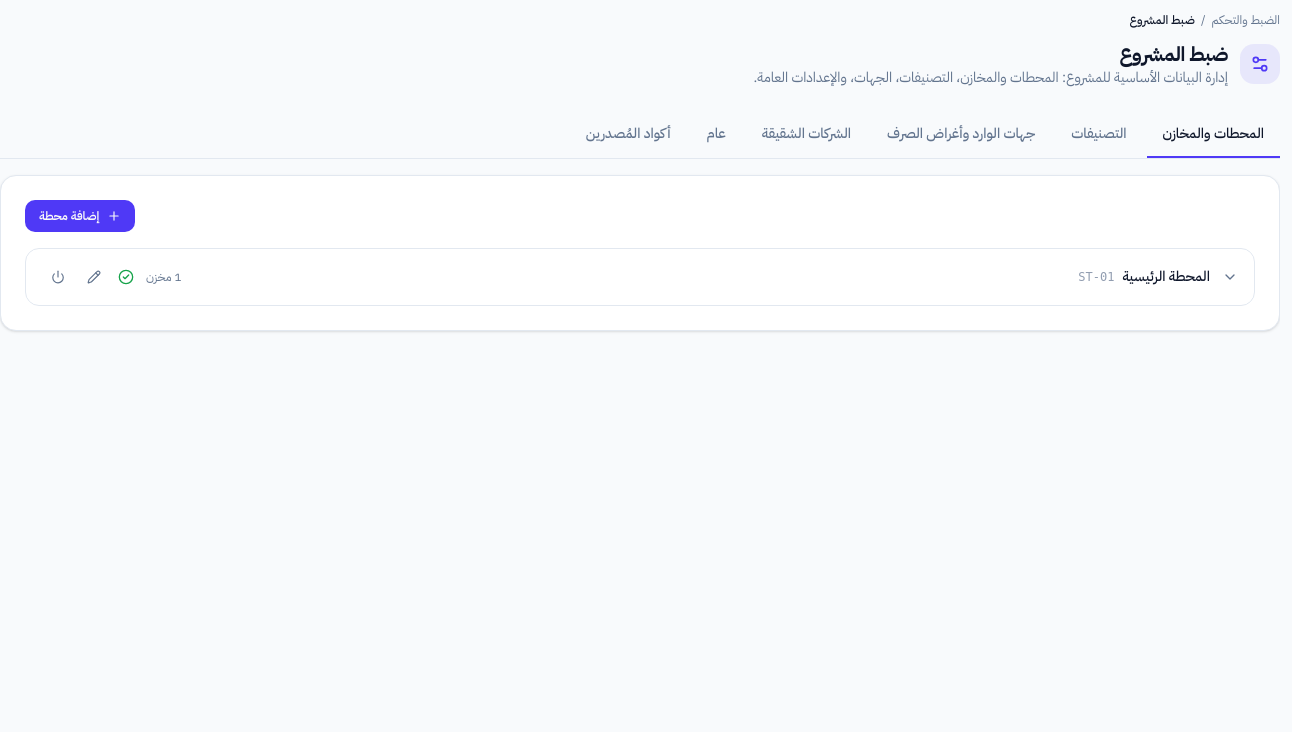
Test case: ProjectSettings › switches tab panels on click
Expected: the text "المحطة الرئيسية" is shown, x1=1122 y1=267 x2=1210 y2=287
Click the tab "التصنيفات": [1099, 135] box x1=1055 y1=112 x2=1142 y2=158
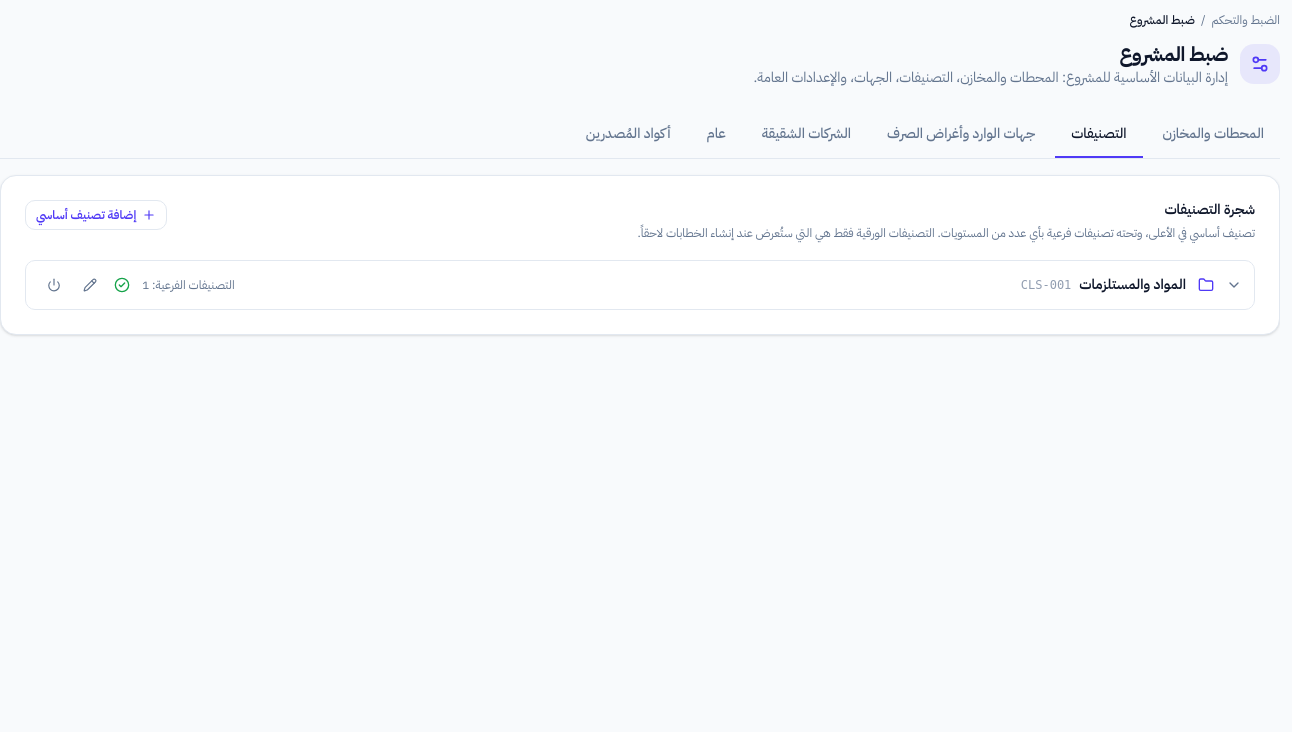
Expected: the heading "شجرة التصنيفات" is shown, x1=1164 y1=199 x2=1255 y2=220
Expected: the text "المواد والمستلزمات" is shown, x1=1079 y1=274 x2=1186 y2=294
Expected: the text "CLS-001" is shown, x1=1021 y1=276 x2=1071 y2=292
Click the tab "جهات الوارد وأغراض الصرف": [961, 135] box x1=871 y1=112 x2=1051 y2=158
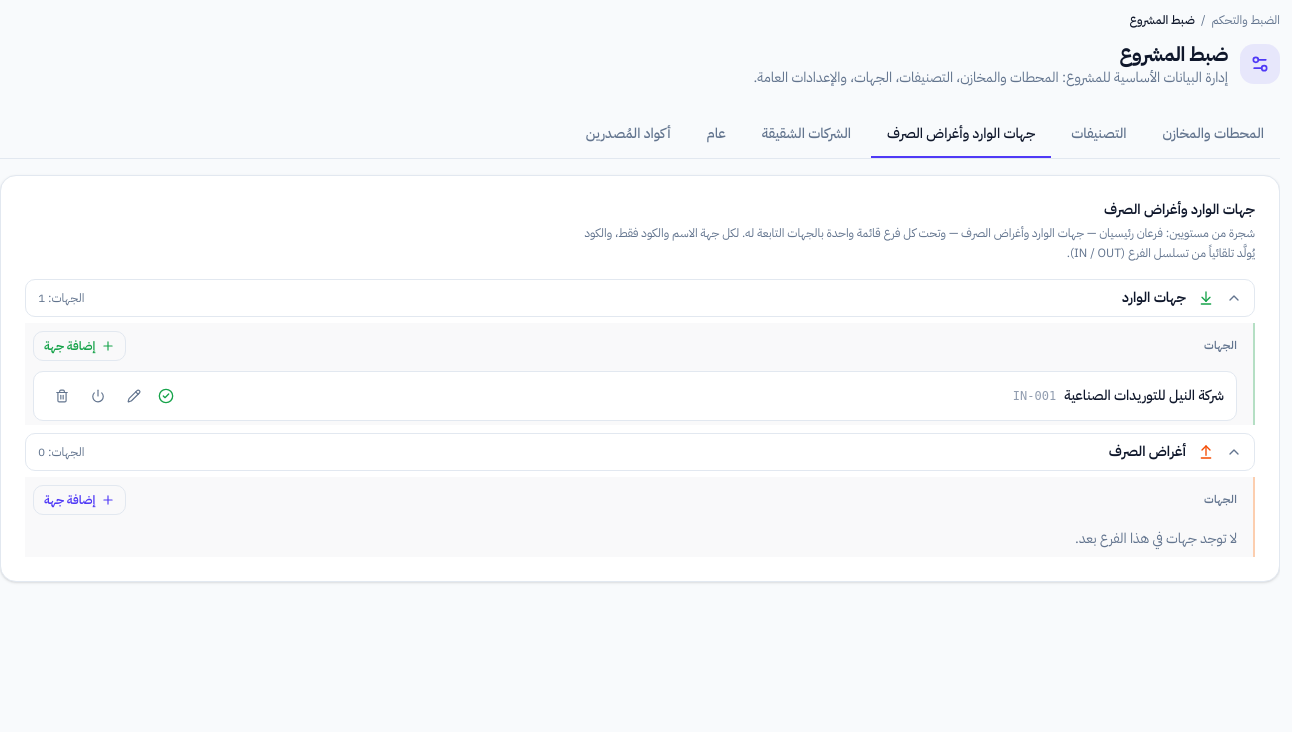
Expected: the text "شركة النيل للتوريدات الصناعية" is shown, x1=1064 y1=386 x2=1224 y2=406
Expected: the text "IN-001" is shown, x1=1013 y1=388 x2=1056 y2=404
Expected: the button with aria-label "إضافة جهة داخل «جهات الوارد»" is shown, x1=33 y1=331 x2=126 y2=361
// The sister-companies tab opens the tree directly, with no sub-tabs.
Click the tab "الشركات الشقيقة": [806, 135] box x1=746 y1=112 x2=867 y2=158
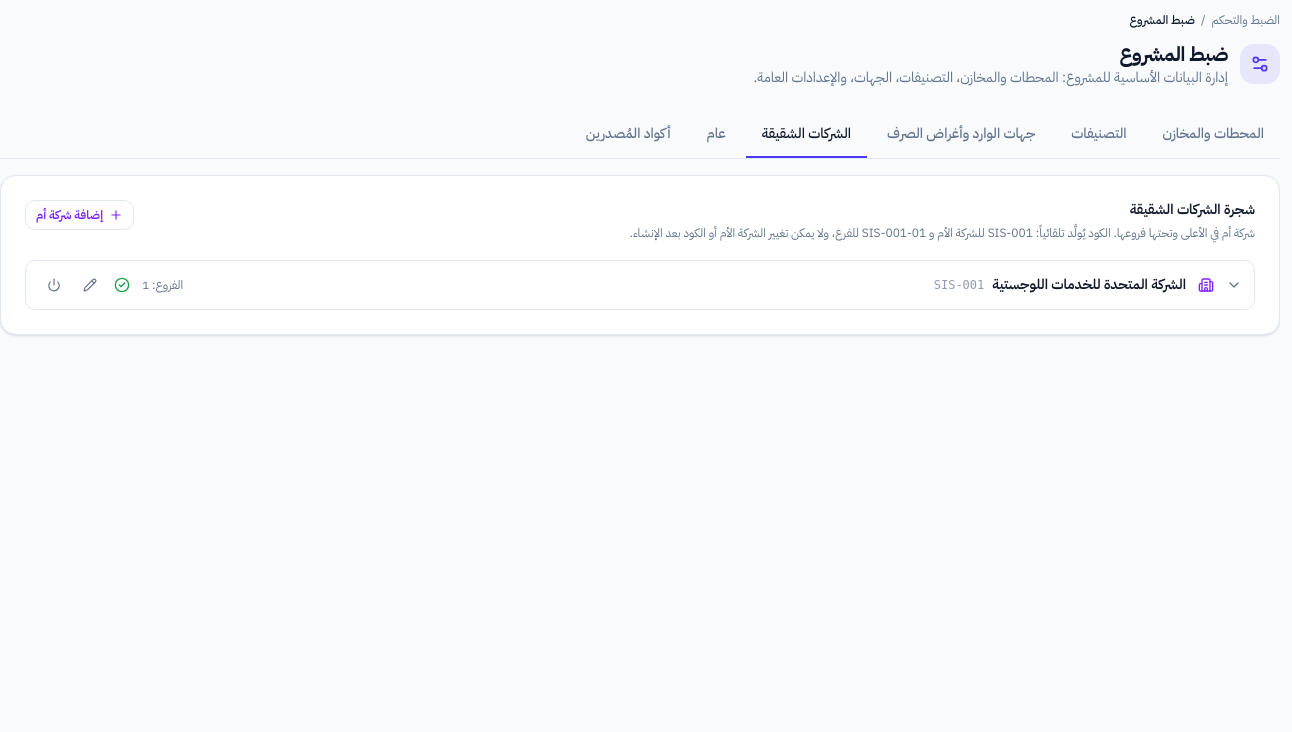
Expected: the heading "شجرة الشركات الشقيقة" is shown, x1=1130 y1=199 x2=1255 y2=220
Expected: the text "SIS-001" is shown, x1=934 y1=276 x2=984 y2=292
Expected: the text "IN-001" is gone
Click the tab "عام": [716, 135] box x1=690 y1=112 x2=742 y2=158
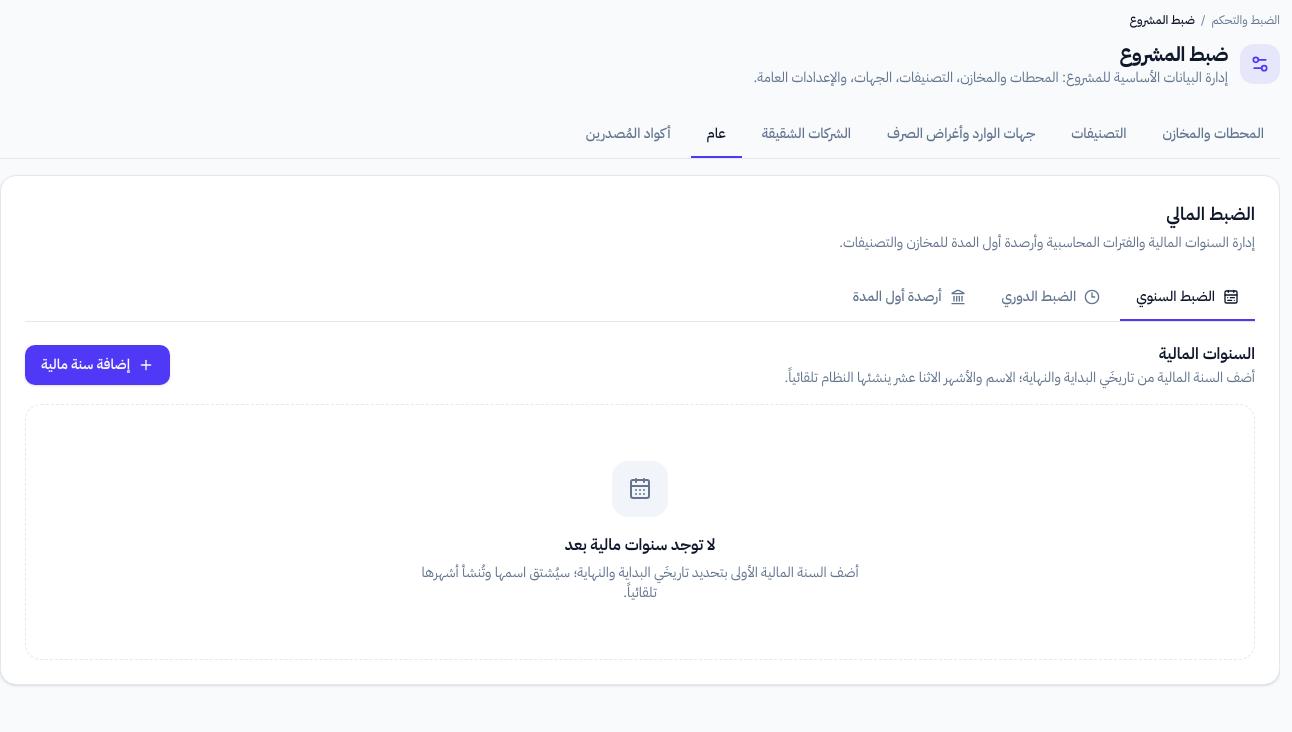
Expected: the element named "الضبط المالي" is shown, x1=25 y1=275 x2=1255 y2=322
Expected: the tab "الضبط السنوي" is shown, x1=1120 y1=275 x2=1255 y2=321
Expected: the tab "الضبط الدوري" is shown, x1=986 y1=275 x2=1116 y2=321
// The issuer register is a flat table with no sub-tabs of its own.
Click the tab "أكواد المُصدرين": [628, 135] box x1=570 y1=112 x2=686 y2=158
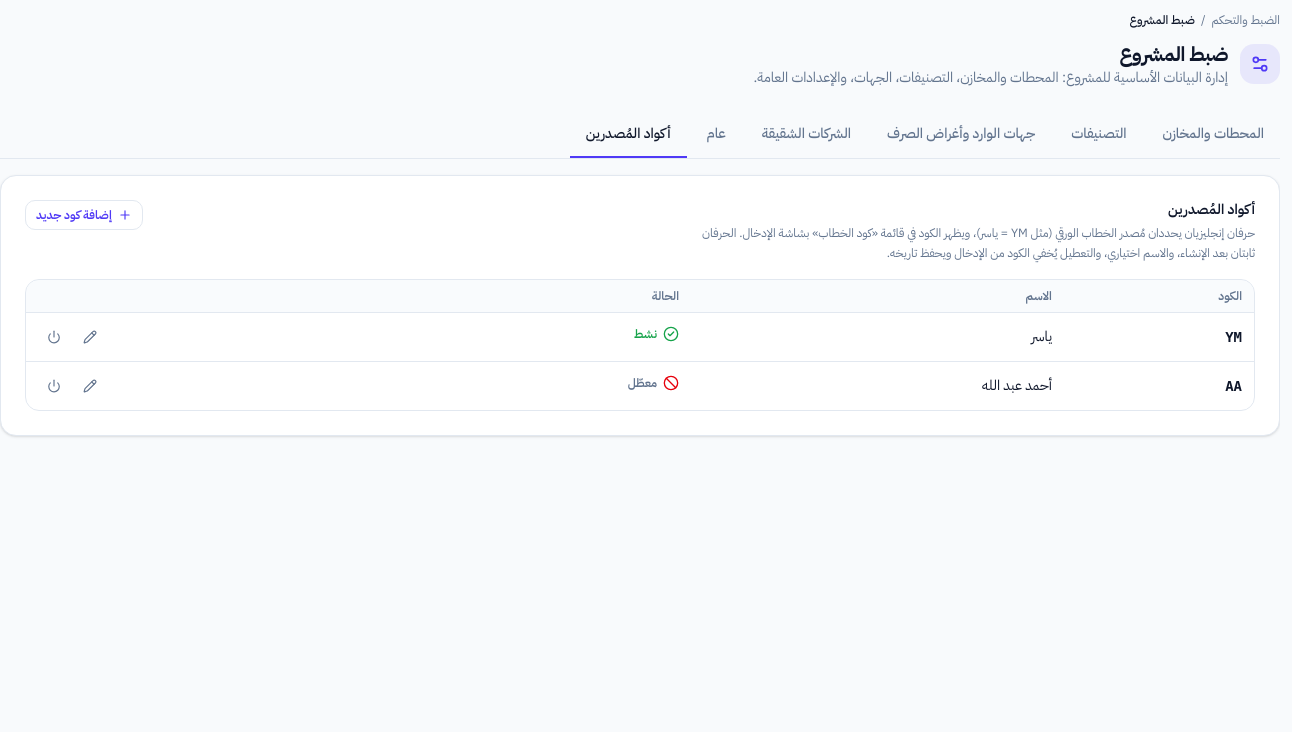
Expected: the heading "أكواد المُصدرين" is shown, x1=1168 y1=199 x2=1255 y2=220
Expected: the column heading "YM" is shown, x1=1064 y1=312 x2=1254 y2=362
Expected: the button "إضافة كود جديد" is shown, x1=25 y1=200 x2=143 y2=230
Click the tab "المحطات والمخازن": [1213, 135] box x1=1146 y1=112 x2=1280 y2=158
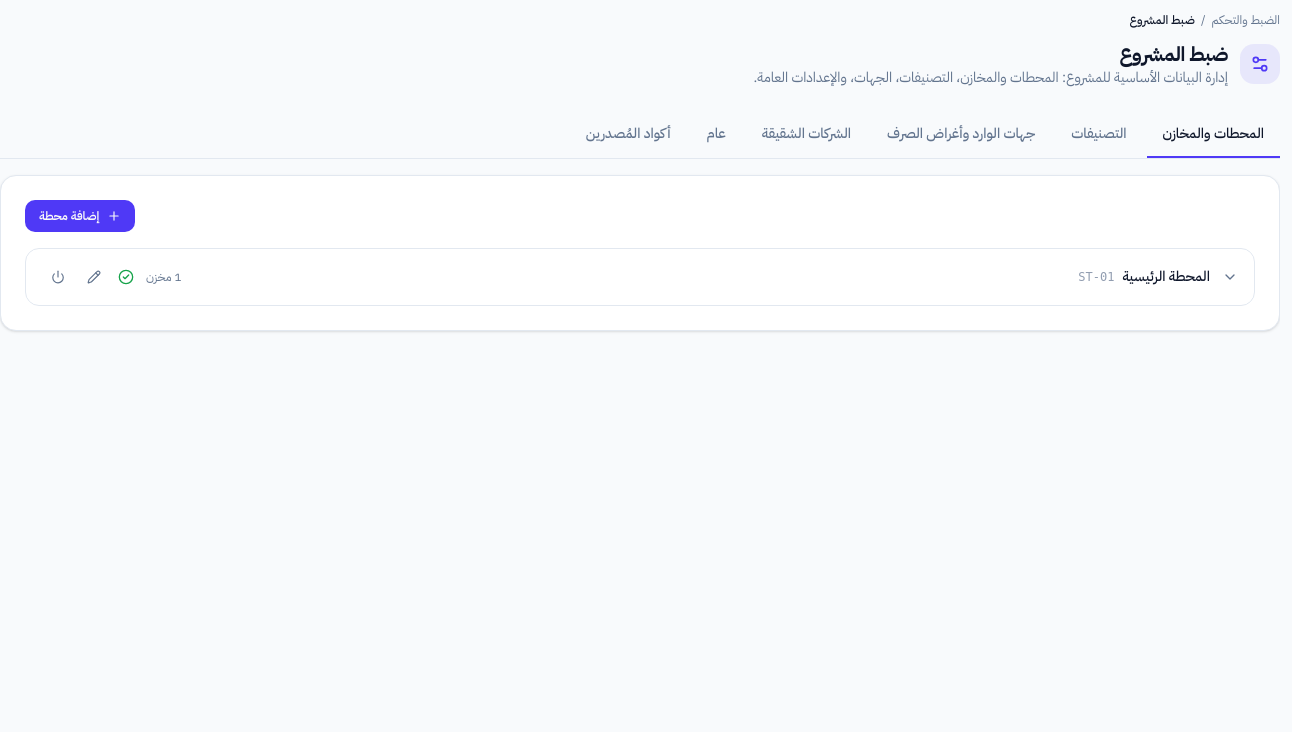
Expected: the button "المواد والمستلزمات" is not shown
Expected: the text "المحطة الرئيسية" is shown, x1=1122 y1=267 x2=1210 y2=287
